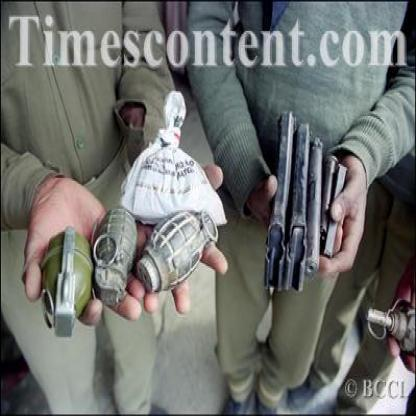Grenade: (137, 208, 219, 294), (40, 224, 93, 339), (93, 207, 139, 309), (365, 297, 416, 357)
